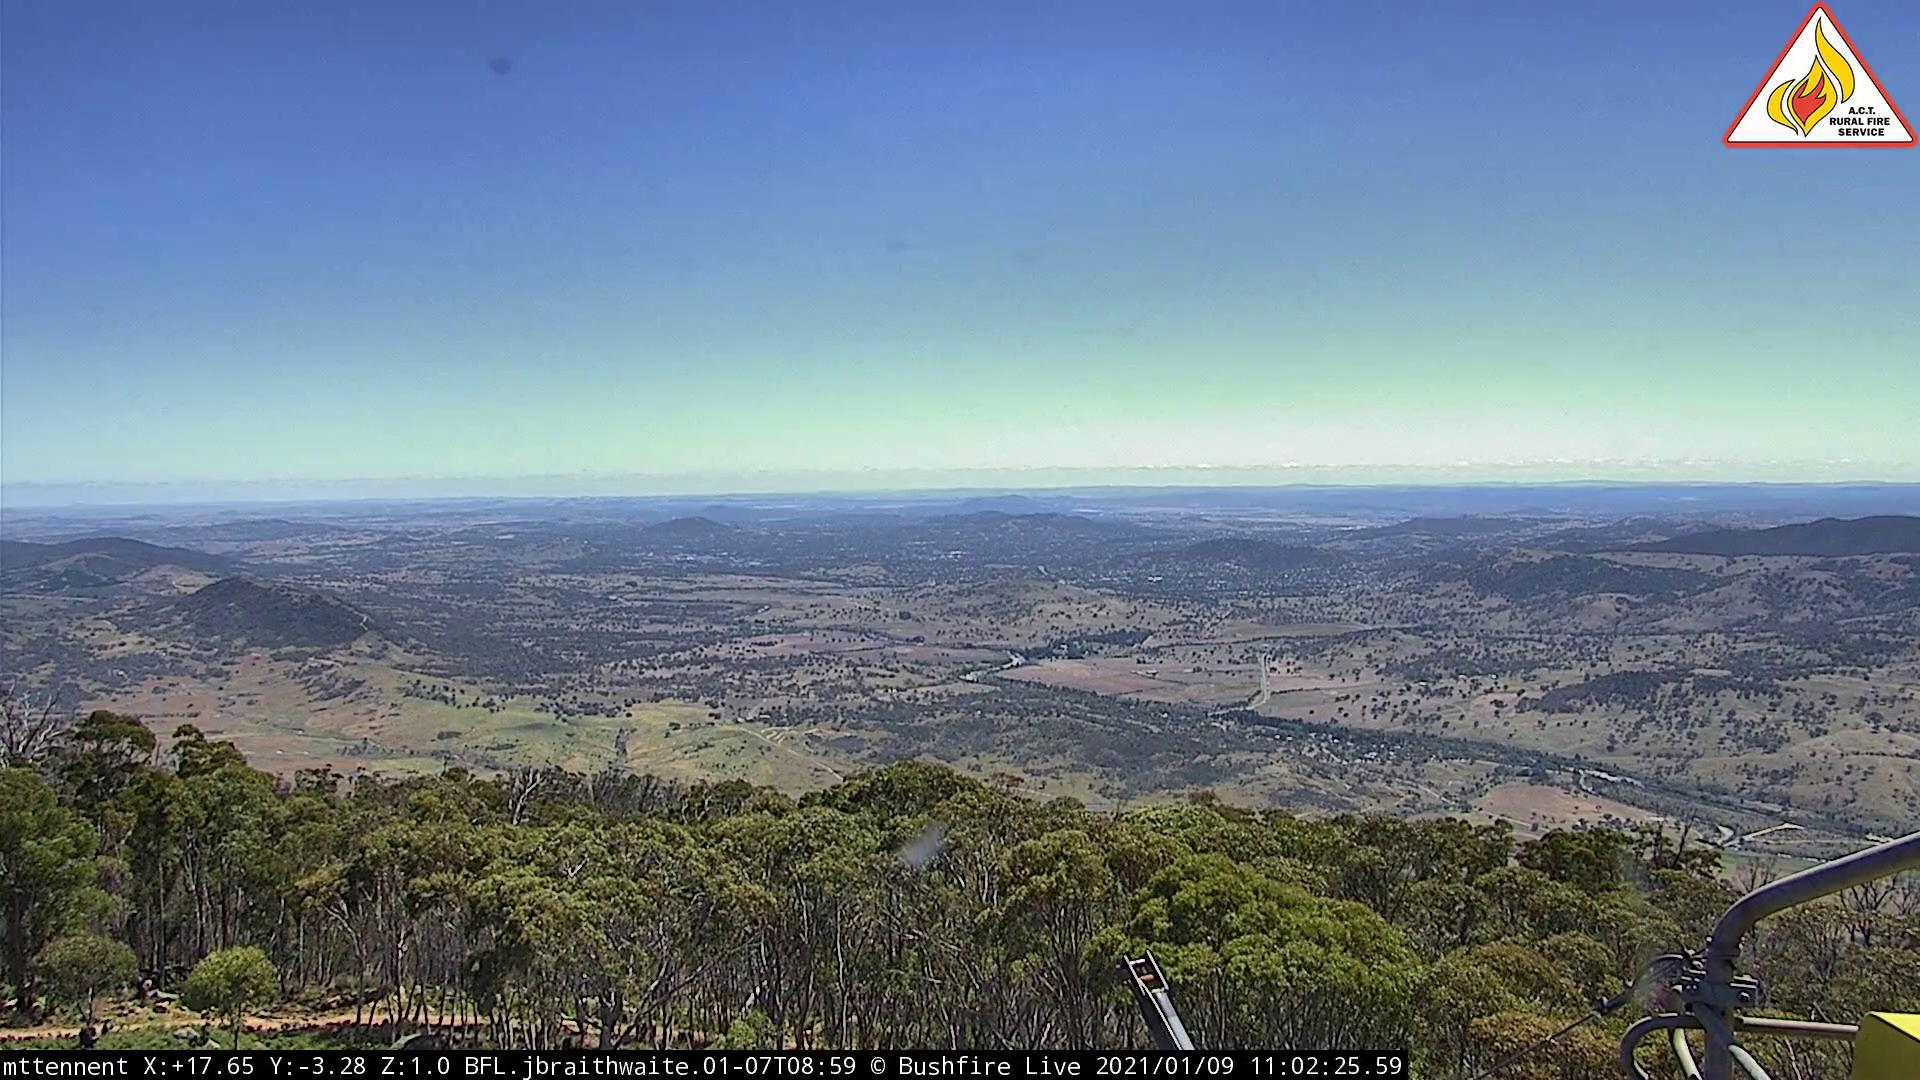Smoke: (1303, 504, 1313, 518)
